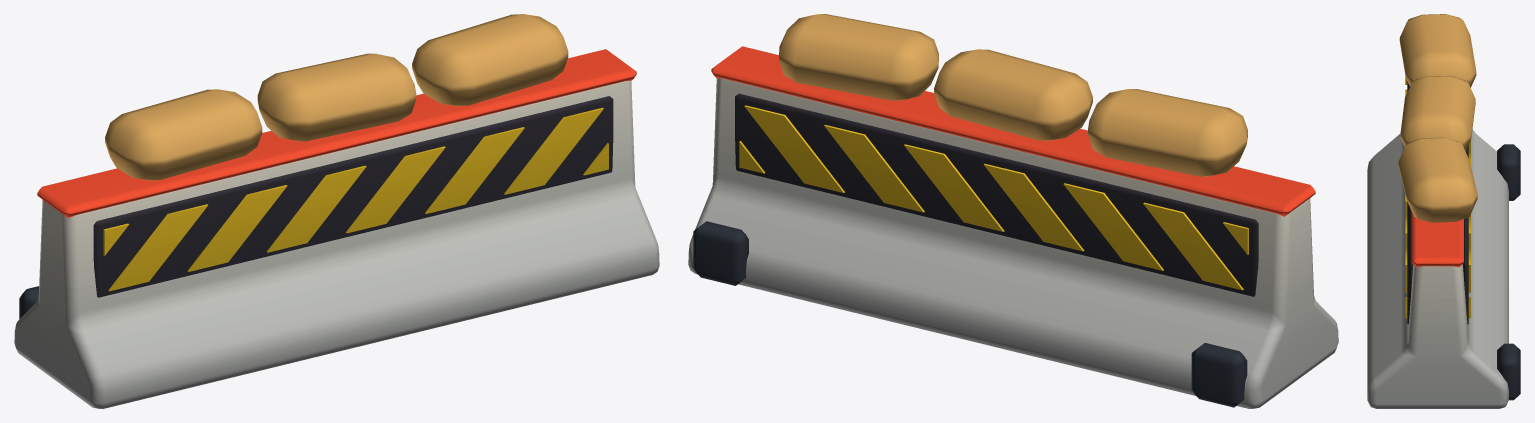
File: barricade.glb
3 renders of one model, left to right at view 1: azimuth 30°, elevation 25°; view 2: azimuth 150°, elevation 25°; view 3: azimuth 270°, elevation 25°, orthographic. The views are drawn at different scales.
Visible parts, largest first — view 1: barricade Warm white, barricade Sand webbing, barricade Ashen charcoal, barricade Hazard yellow, barricade Ember paint; view 2: barricade Warm white, barricade Sand webbing, barricade Ashen charcoal, barricade Hazard yellow, barricade Ember paint, barricade Gunmetal; view 3: barricade Warm white, barricade Sand webbing, barricade Ember paint, barricade Gunmetal, barricade Ashen charcoal, barricade Hazard yellow.
Boxes of the visible parts, <box> form: barricade Warm white: <box>14,80,659,408</box>; barricade Sand webbing: <box>105,14,568,180</box>; barricade Ashen charcoal: <box>93,96,613,297</box>; barricade Hazard yellow: <box>103,107,608,291</box>; barricade Ember paint: <box>37,49,636,217</box>; barricade Warm white: <box>688,78,1338,408</box>; barricade Sand webbing: <box>779,14,1247,176</box>; barricade Ashen charcoal: <box>735,93,1258,296</box>; barricade Hazard yellow: <box>739,105,1248,290</box>; barricade Ember paint: <box>711,46,1315,216</box>; barricade Gunmetal: <box>693,221,1247,407</box>; barricade Warm white: <box>1367,129,1508,408</box>; barricade Sand webbing: <box>1398,14,1477,222</box>; barricade Ember paint: <box>1412,212,1463,267</box>; barricade Gunmetal: <box>1497,144,1520,400</box>; barricade Ashen charcoal: <box>1407,81,1468,324</box>; barricade Hazard yellow: <box>1405,76,1470,318</box>.
Size of the model in its own units: 2.32 by 0.95 by 0.65.
6 materials, 6 textured.
